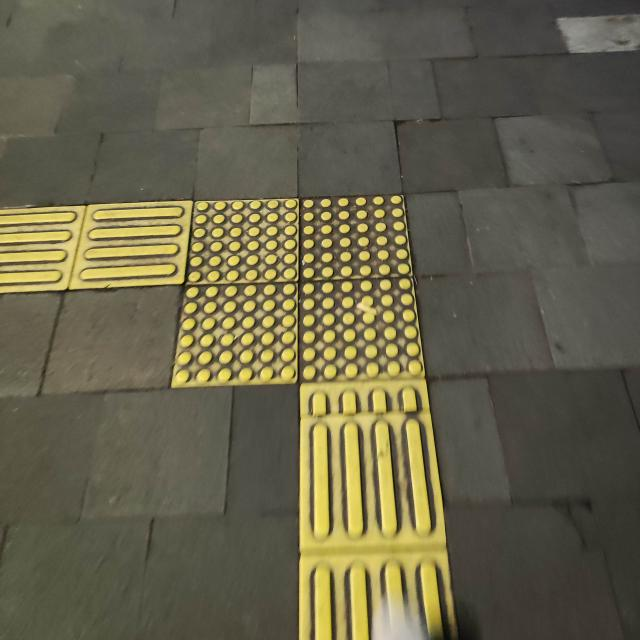kiri: (22, 152, 500, 509)
